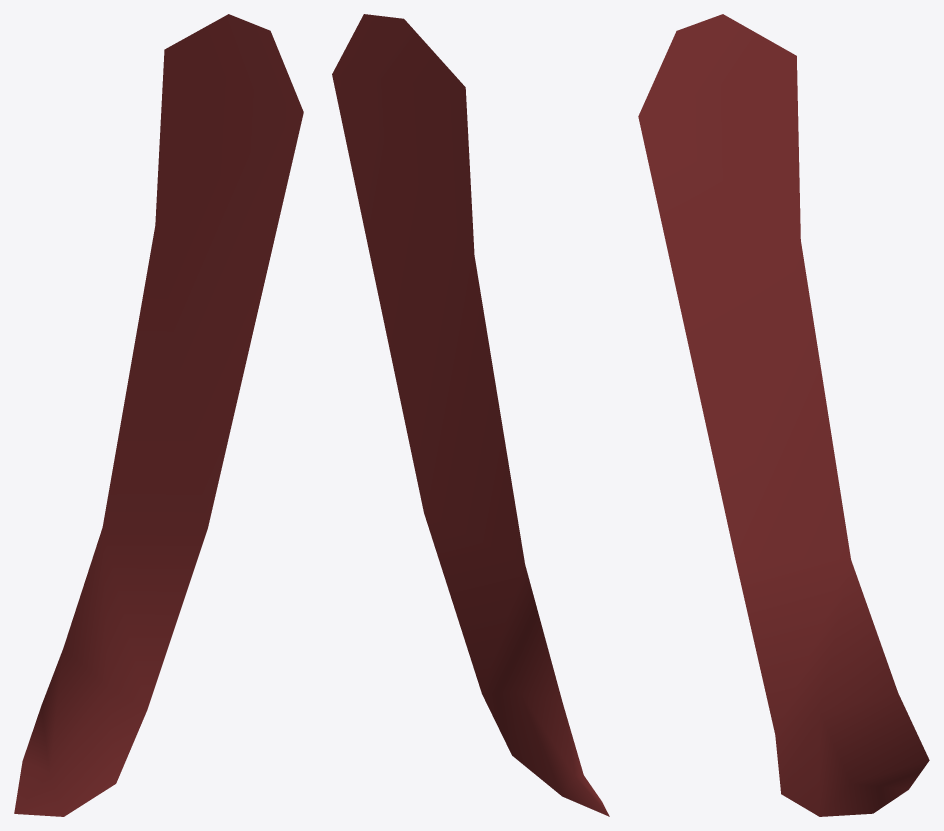
File: orbital-part-of-orbicularis-oculi-or.glb
The picture shows the model from 3 angles, left to right: view 1: azimuth 30°, elevation 25°; view 2: azimuth 210°, elevation 25°; view 3: azimuth 270°, elevation 25°; orthographic projection. The views are drawn at different scales.
Visible parts, largest first — view 1: Orbital part of orbicularis oculi.or; view 2: Orbital part of orbicularis oculi.or; view 3: Orbital part of orbicularis oculi.or.
Boxes of the visible parts, x1=… form: Orbital part of orbicularis oculi.or: x1=14, y1=14, x2=303, y2=816; Orbital part of orbicularis oculi.or: x1=332, y1=14, x2=609, y2=816; Orbital part of orbicularis oculi.or: x1=638, y1=14, x2=929, y2=816.
Bounding box in the file's own units: 0.00458 × 0.0198 × 0.00598.
